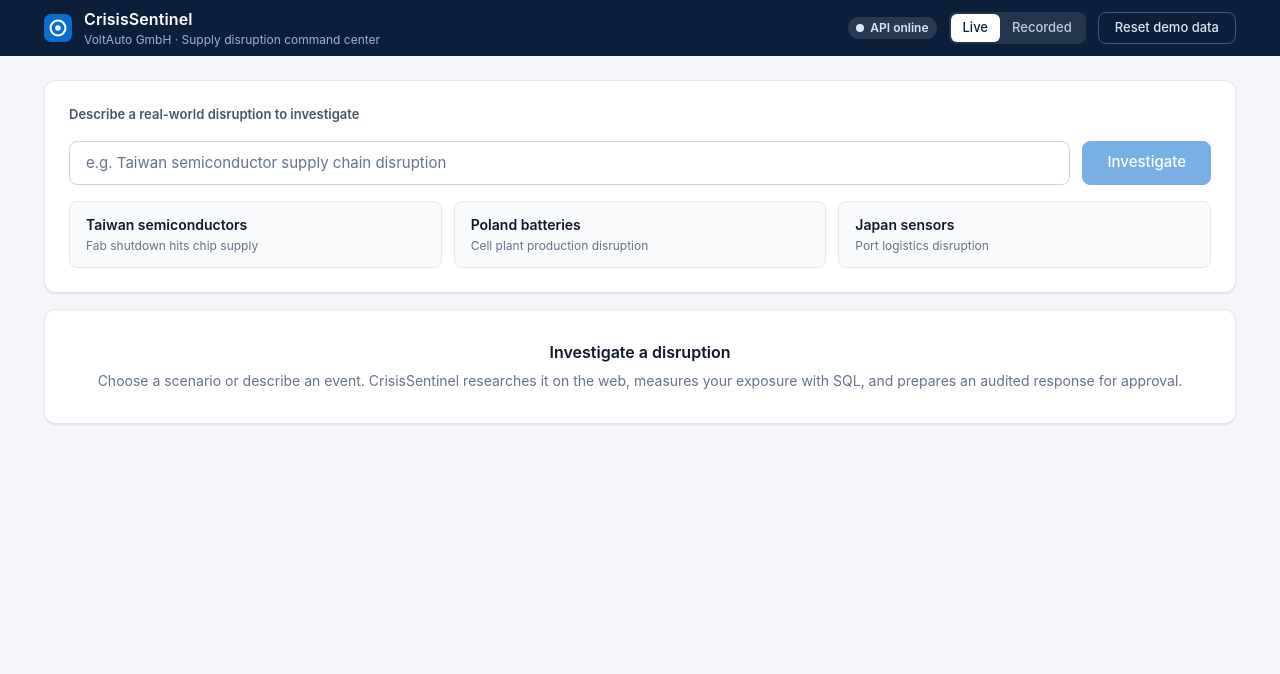
Test: CrisisSentinel UI › offers one revision when the critic says revise, and shows the real new verdict
The width and height of the screenshot is (1280, 674).
Click the button "Recorded". click: (1042, 28)
box: [1000,14,1084,42]
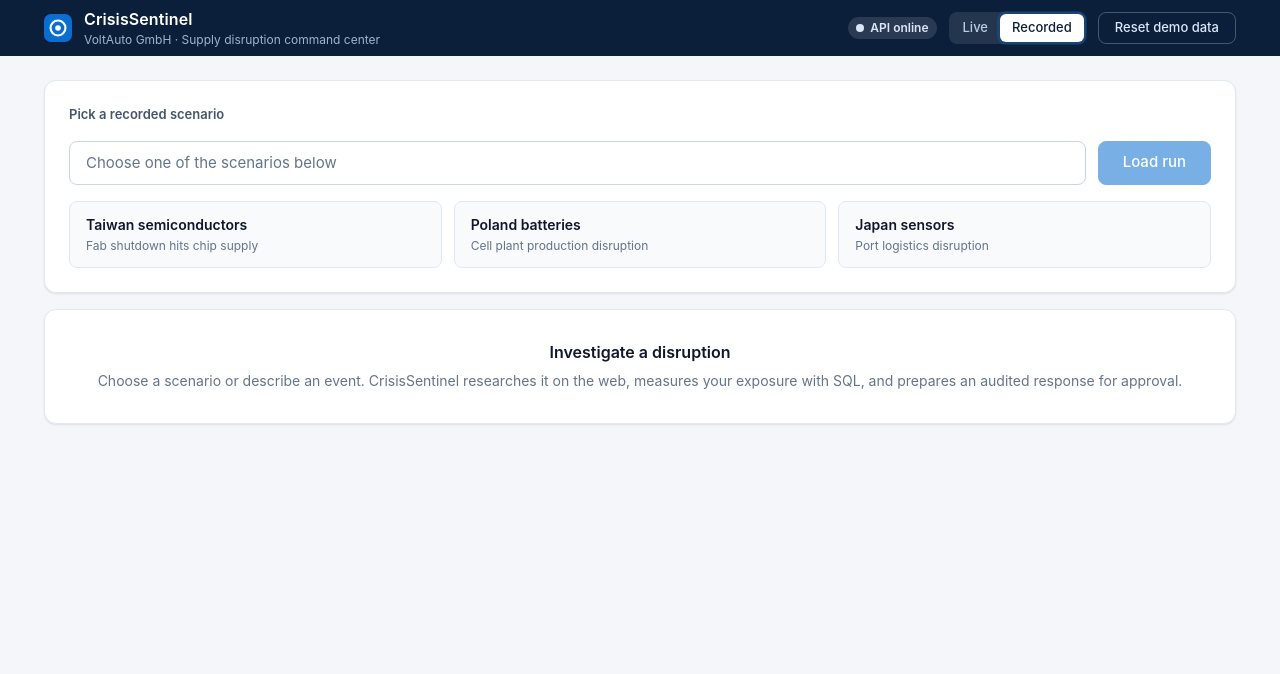
Click the button "Taiwan semiconductors Fab shutdown hits chip supply". click: (167, 224)
box: [69,200,442,268]
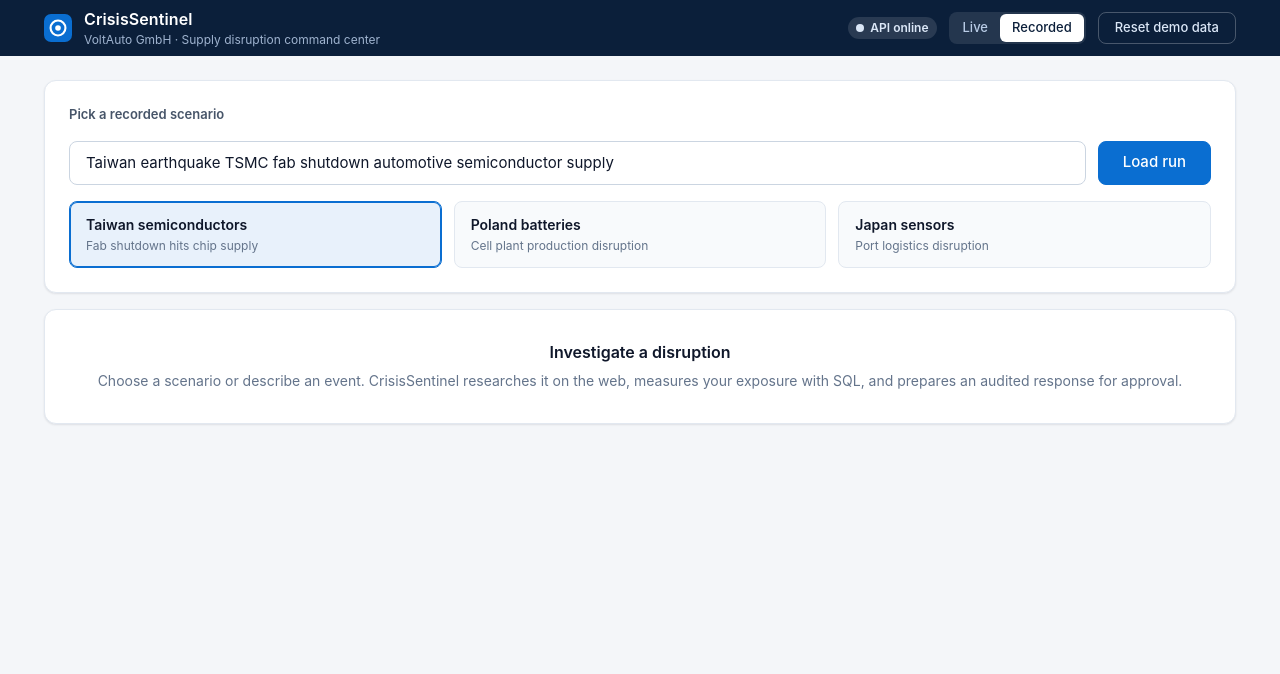
Click the button "Load run". click: (1154, 162)
box: [1098,140,1211,184]
(page scrolled)
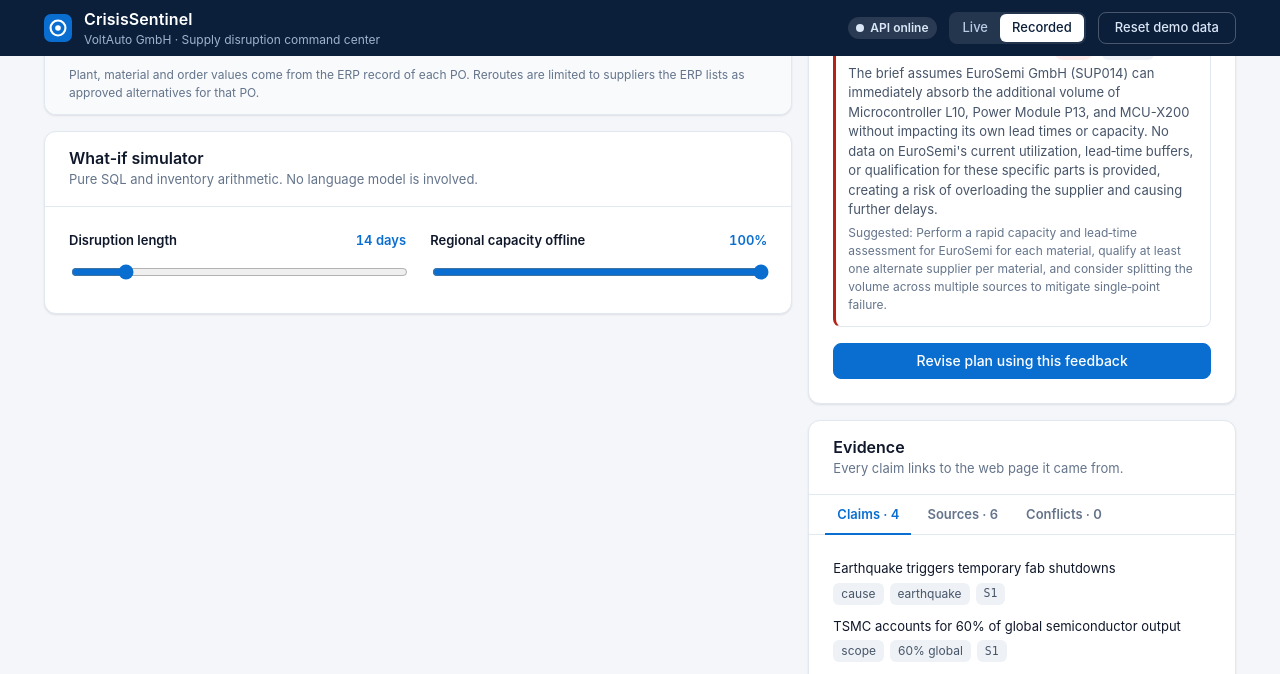
Click the button "Revise plan using this feedback". click: (1022, 361)
box: [833,343,1211,379]
(page scrolled)
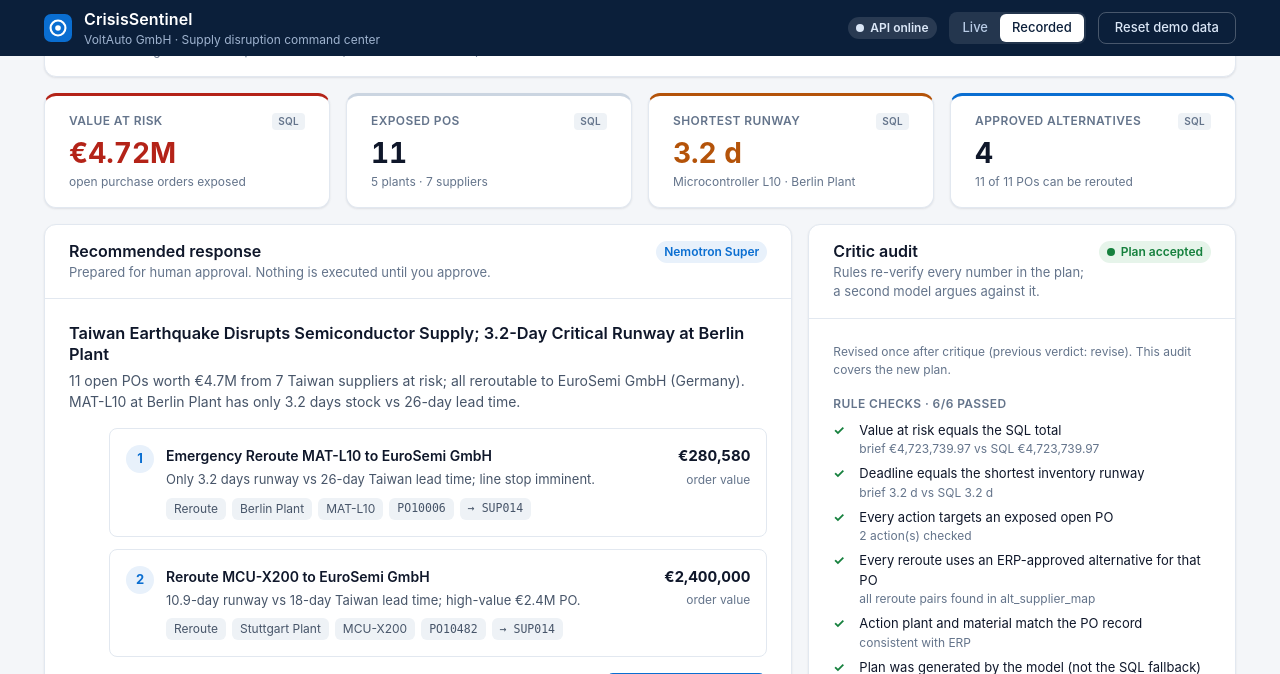
Check: the text "Plan accepted" is shown, box [1099,241,1211,263]
Check: the text "previous verdict: revise" is shown, box [985,344,1129,359]
Check: the button "Revise plan" is gone
